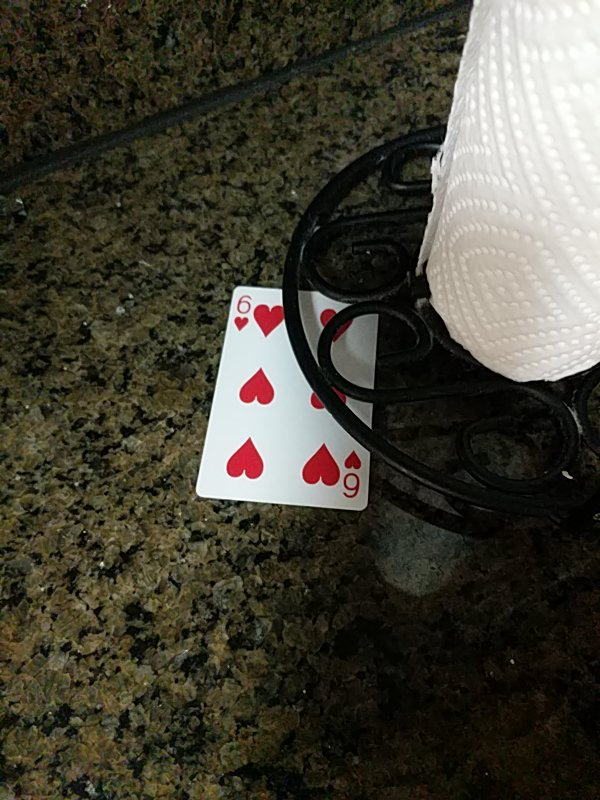Hearts: (196, 284, 393, 516)
